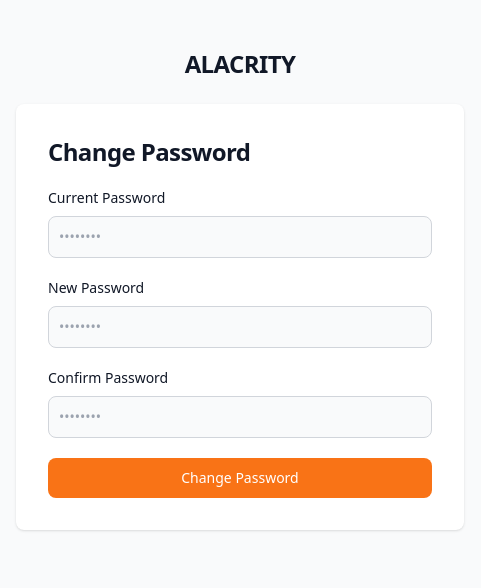
Scenario: ChangePassword component › shows an error if new and confirm passwords do not match
Type "OldPassword123!" into the password field labelled "Current Password". click: (240, 237)
box: [48,216,432,258]
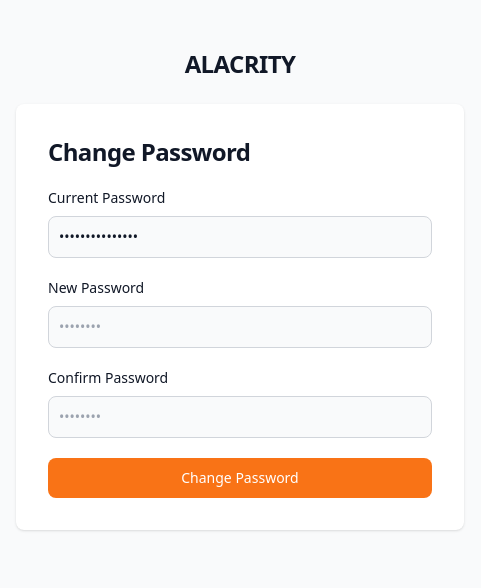
Type "ValidPass123!" into the password field labelled "New Password". click: (240, 327)
box: [48,306,432,348]
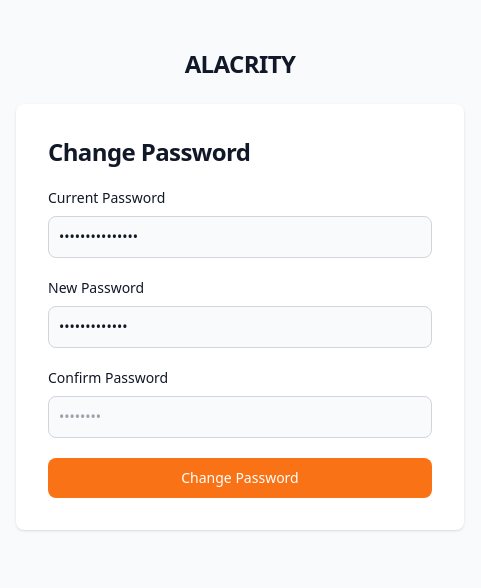
Type "DifferentPass123!" into the password field labelled "Confirm Password". click: (240, 417)
box: [48,396,432,438]
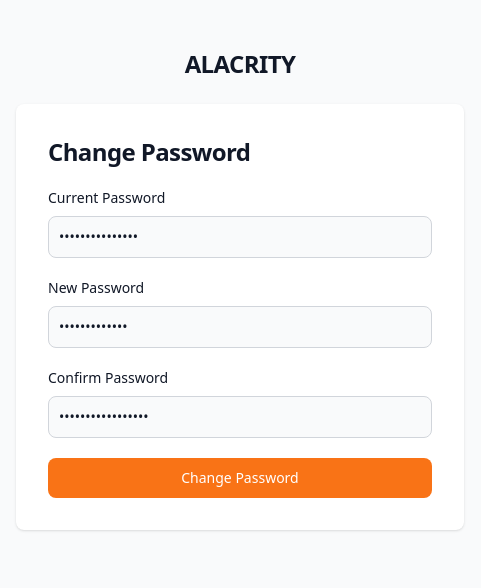
Click the button "Change Password". click: click(240, 478)
box: [48,458,432,498]
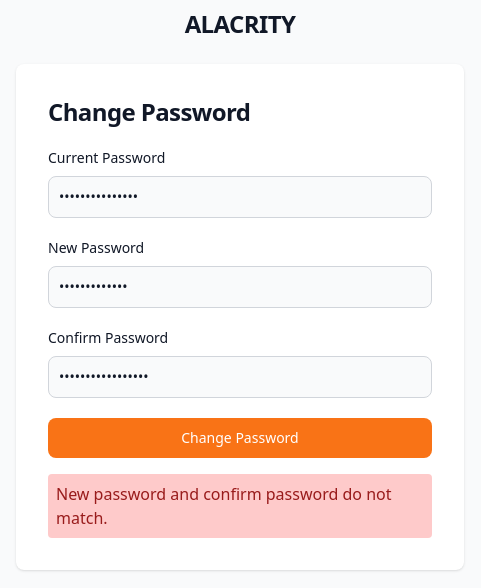
Expected: the text "New password and confirm password do not match." is shown, [48,474,432,538]
